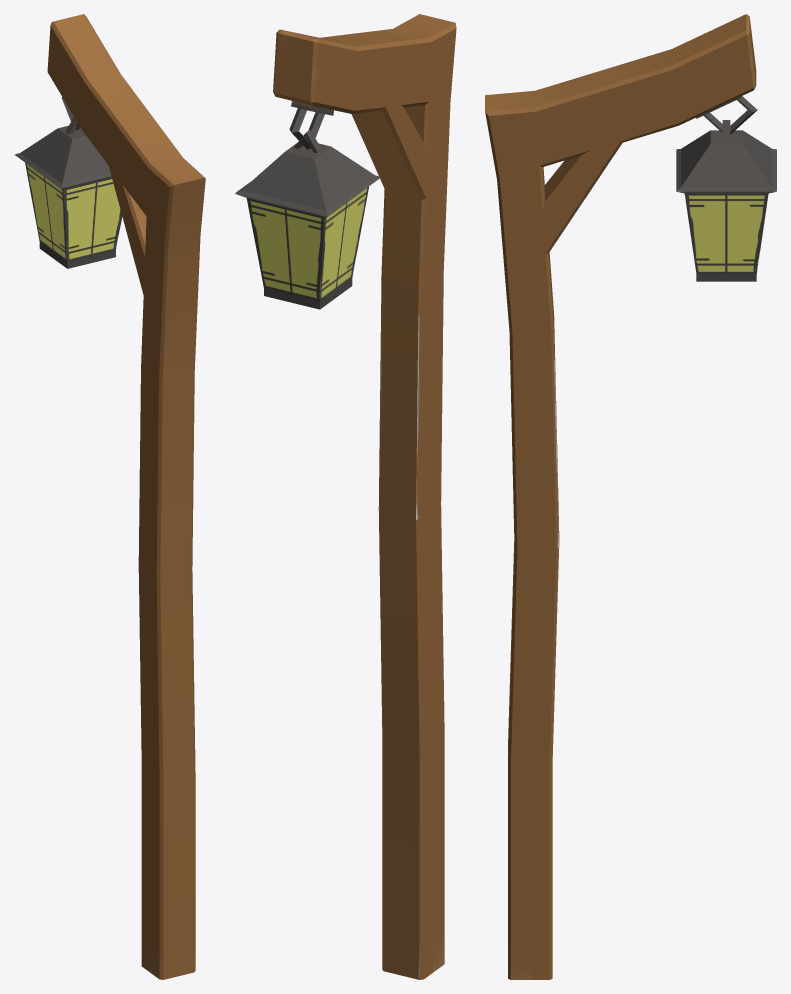
Rendered from Lamp_post_MESH_01.fbx.
3 views of the same model, side by side, from view 1: azimuth 30°, elevation 25°; view 2: azimuth 150°, elevation 25°; view 3: azimuth 270°, elevation 25° (orthographic). The views are drawn at different scales.
Visible parts, largest first — view 1: Lamp_post_Lamp_post; view 2: Lamp_post_Lamp_post; view 3: Lamp_post_Lamp_post.
Part boxes in pixels (x1=…): Lamp_post_Lamp_post: x1=14, y1=14, x2=205, y2=979; Lamp_post_Lamp_post: x1=235, y1=14, x2=456, y2=979; Lamp_post_Lamp_post: x1=485, y1=14, x2=776, y2=979.
Size of the model in its own units: 34.45 by 359 by 99.99.
